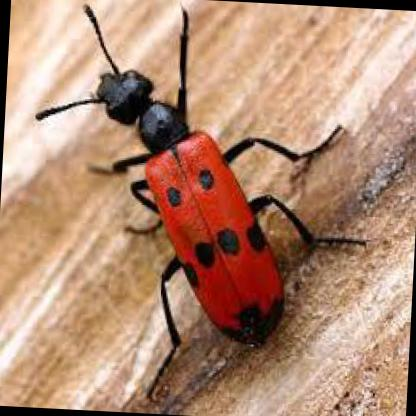blister beetle: (32, 3, 301, 349)
